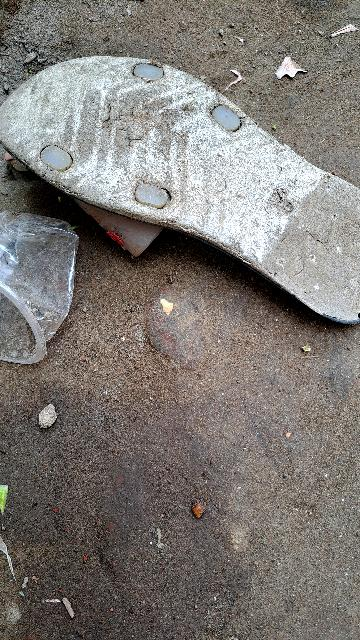sandal: (0, 20, 360, 329)
